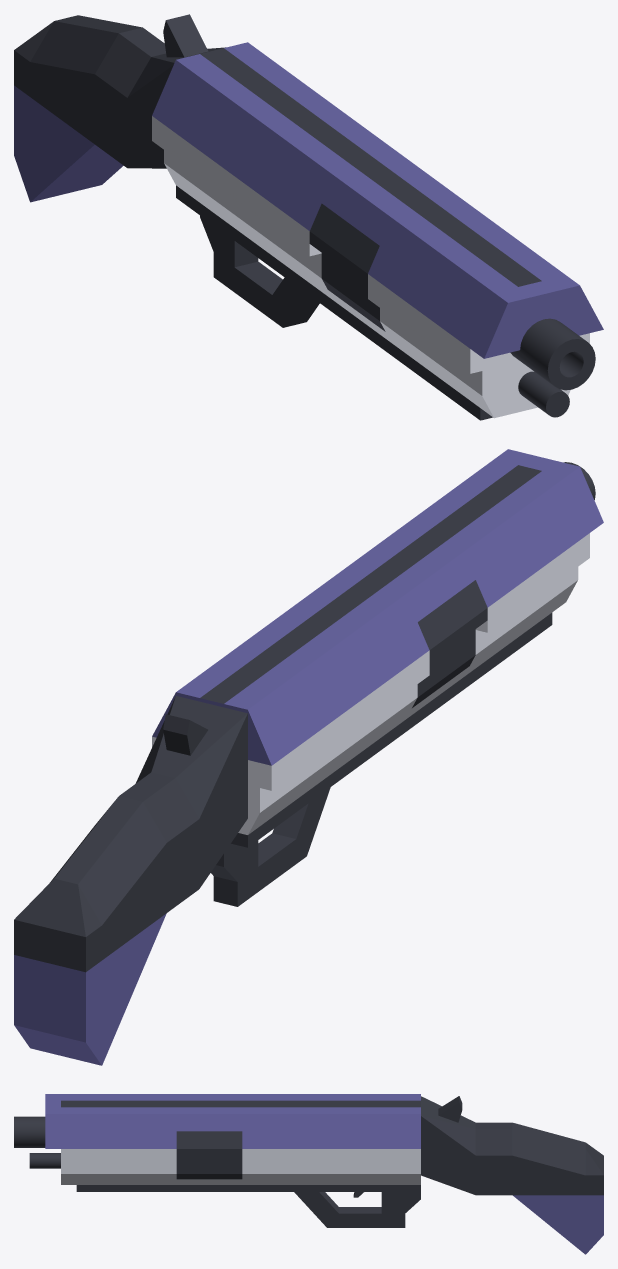
Rendered from SonicGun.fbx.
3 views of the same model, one above another, from view 1: azimuth 30°, elevation 25°; view 2: azimuth 150°, elevation 25°; view 3: azimuth 270°, elevation 25° (orthographic). The views are drawn at different scales.
Visible parts, largest first — view 1: mergedBlocks; view 2: mergedBlocks; view 3: mergedBlocks.
Part boxes in pixels (box(x1,y1,x2,y2)): mergedBlocks: box(14, 14, 603, 420); mergedBlocks: box(14, 449, 603, 1065); mergedBlocks: box(14, 1094, 603, 1254).
Bounding box in the file's own units: 5 × 10.29 × 37.7.
